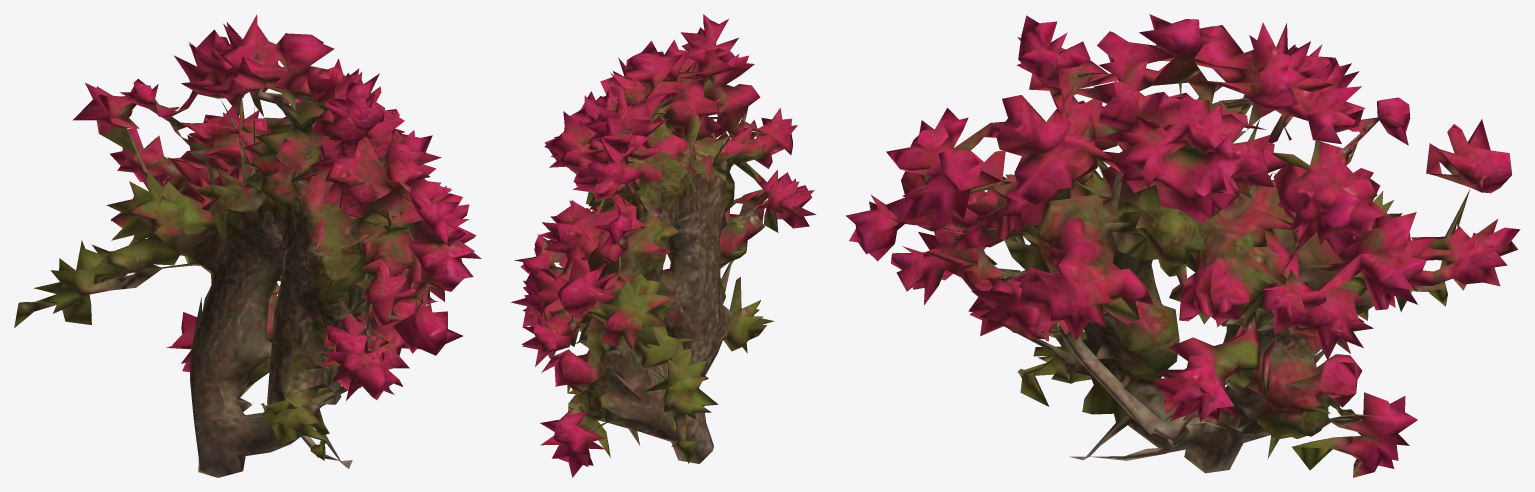
The model's file is bougainvillea.glb.
3 renders of one model, left to right at view 1: azimuth 30°, elevation 25°; view 2: azimuth 150°, elevation 25°; view 3: azimuth 270°, elevation 25°, orthographic. The views are drawn at different scales.
Parts seen in each view (by area): view 1: tripo_node_955001de-e719-4749-843d-e8f6a7f6f10a; view 2: tripo_node_955001de-e719-4749-843d-e8f6a7f6f10a; view 3: tripo_node_955001de-e719-4749-843d-e8f6a7f6f10a.
Part boxes in pixels (<box>): tripo_node_955001de-e719-4749-843d-e8f6a7f6f10a: <box>14,14,481,477</box>; tripo_node_955001de-e719-4749-843d-e8f6a7f6f10a: <box>511,14,816,477</box>; tripo_node_955001de-e719-4749-843d-e8f6a7f6f10a: <box>846,14,1520,477</box>.
Size of the model in its own units: 0.8181 by 1.2 by 1.54.
1 material, 1 textured.
